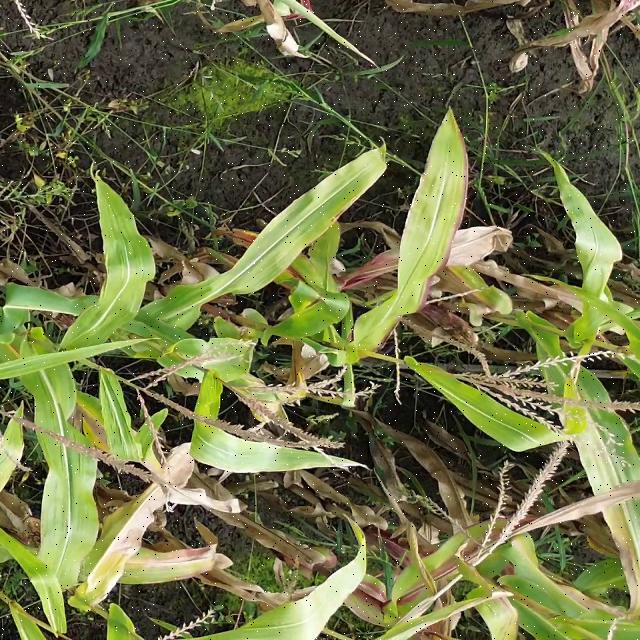gray-leaf-spot: (94, 216, 153, 299)
northern-leaf-blight: (424, 134, 471, 334), (102, 523, 229, 589), (446, 257, 512, 326)
